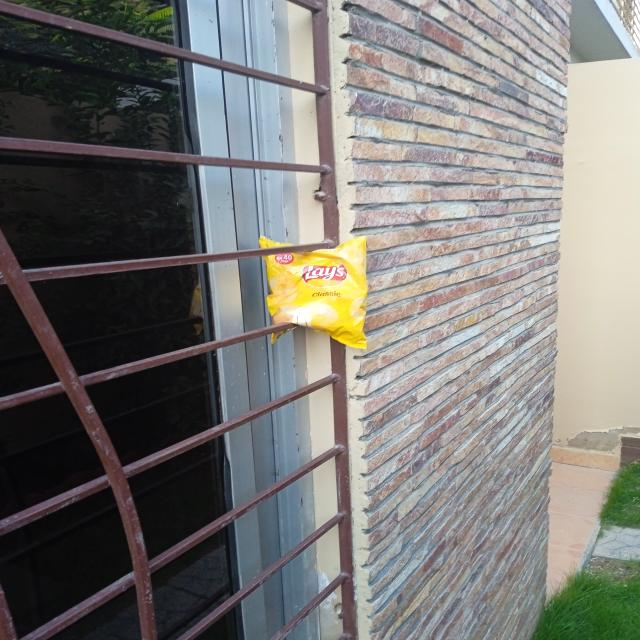Plastic: (272, 237, 370, 345)
